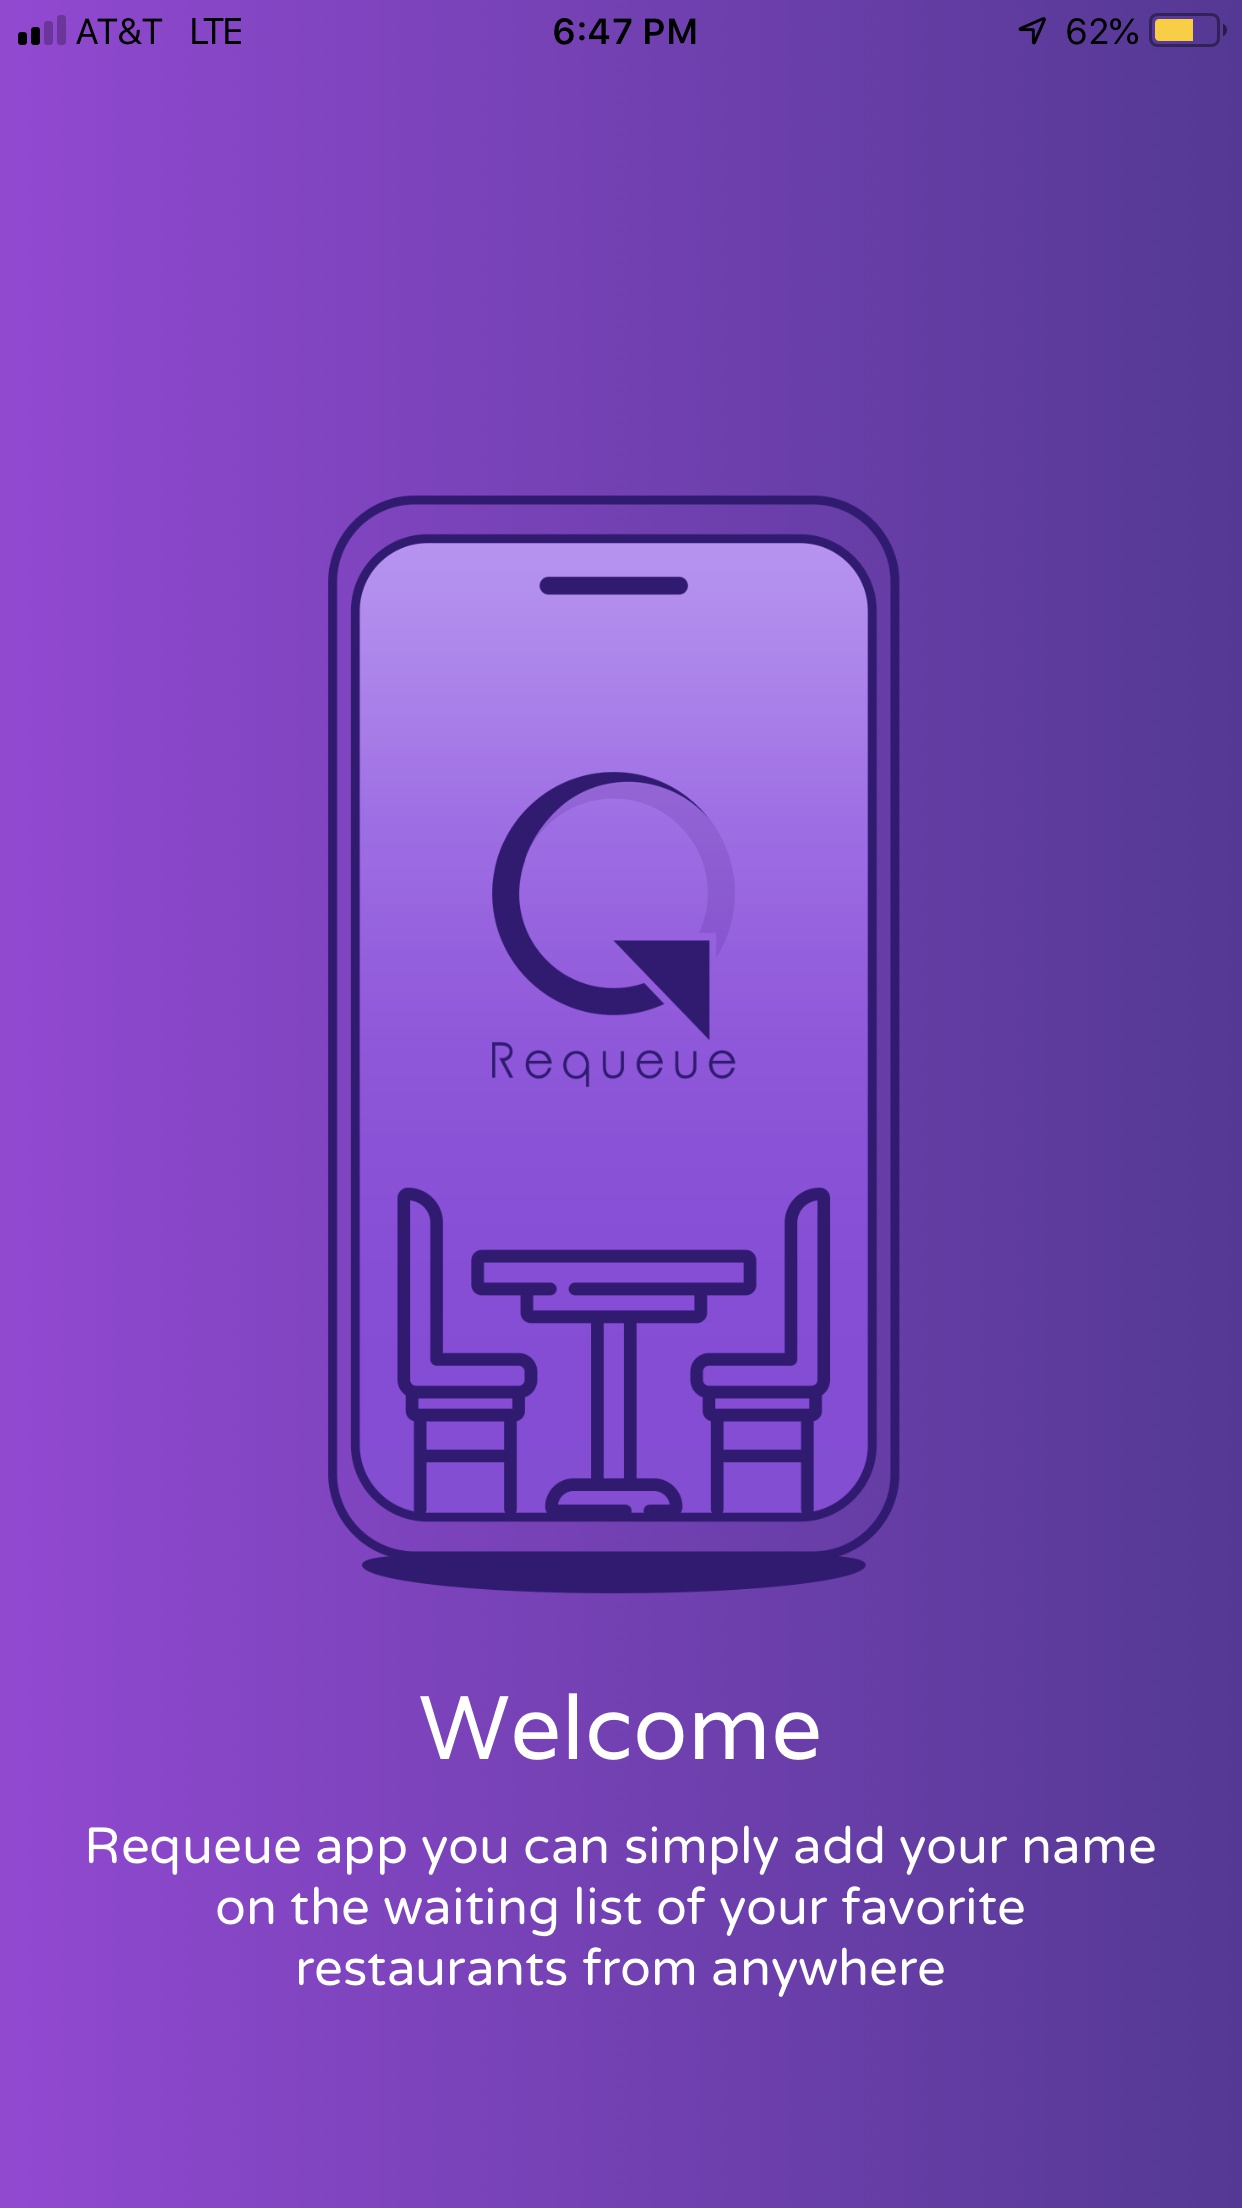Image: (326, 494, 901, 1595)
Text: (89, 1824, 1156, 1999), (419, 1692, 820, 1762)
UpperTaskBar: (2, 2, 1242, 49)
